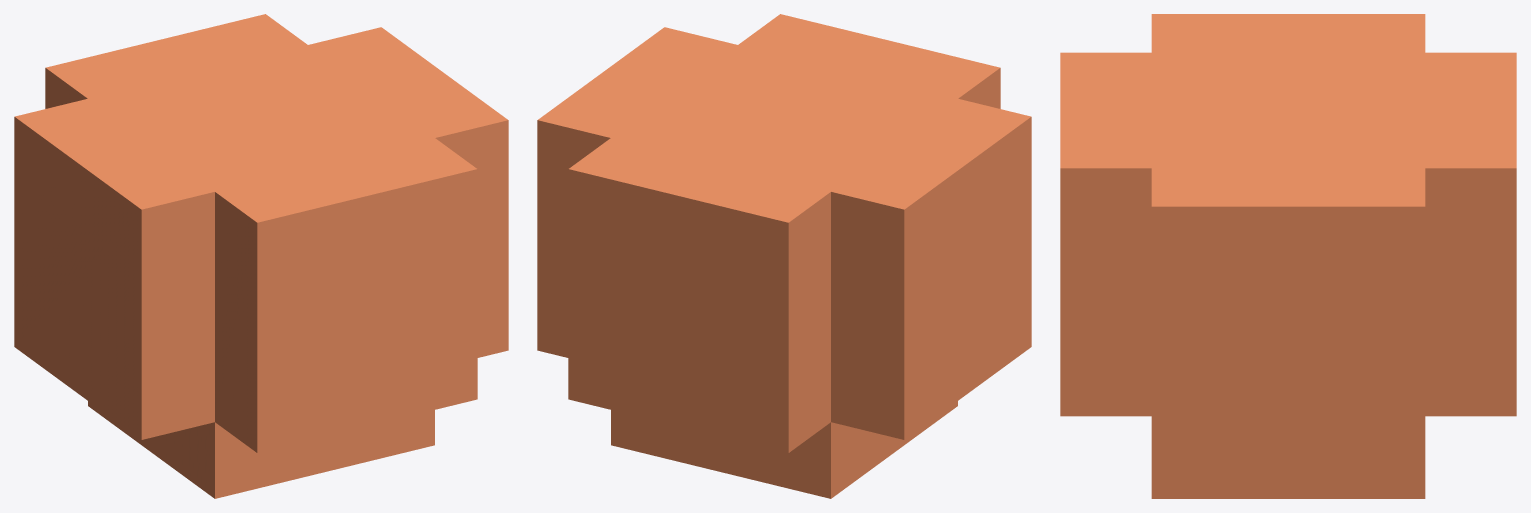
File: pedroFODA-3.obj
3 renders of one model, left to right at view 1: azimuth 30°, elevation 25°; view 2: azimuth 150°, elevation 25°; view 3: azimuth 270°, elevation 25°, orthographic. The views are drawn at different scales.
Bounding box in the file's own units: 1 × 0.8 × 1.
Materials: 1 (1 with a texture image).
